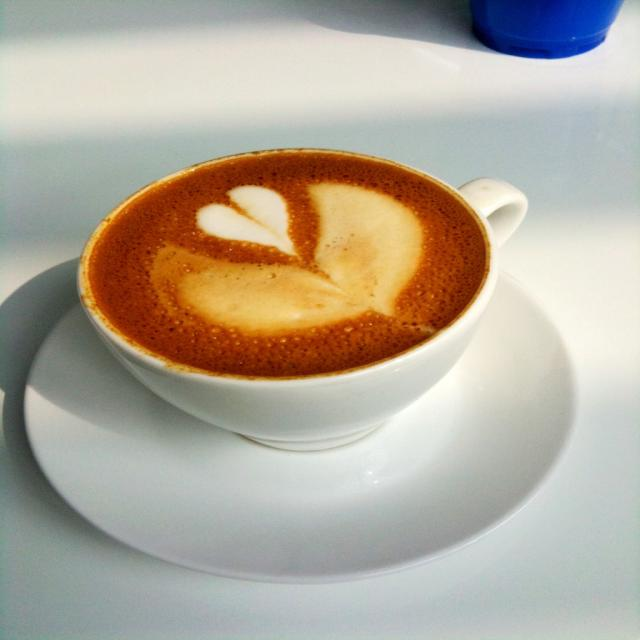latte: (78, 148, 496, 382)
